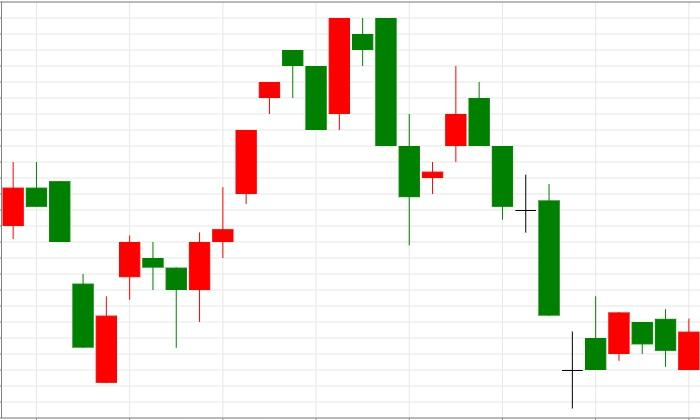hanging_man_fall: (165, 49, 304, 348), (95, 235, 188, 384)
